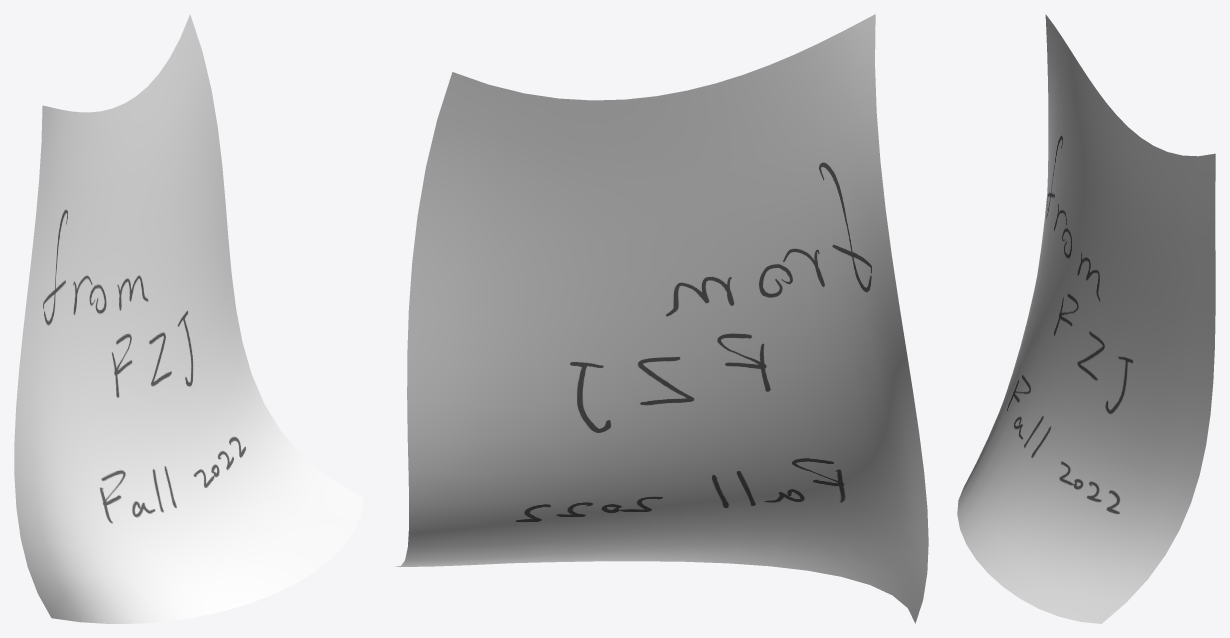
Rendered from paper.obj.
The picture shows the model from 3 angles, left to right: view 1: azimuth 30°, elevation 25°; view 2: azimuth 150°, elevation 25°; view 3: azimuth 270°, elevation 25°; orthographic projection. The views are drawn at different scales.
Visible parts, largest first — view 1: SurfPatch; view 2: SurfPatch; view 3: SurfPatch.
Boxes of the visible parts, box(x1,y1,x2,y2) form: SurfPatch: box(14, 14, 363, 623); SurfPatch: box(394, 14, 928, 623); SurfPatch: box(957, 14, 1215, 623).
Size of the model in its own units: 0.6106 by 0.7737 by 0.3908.
